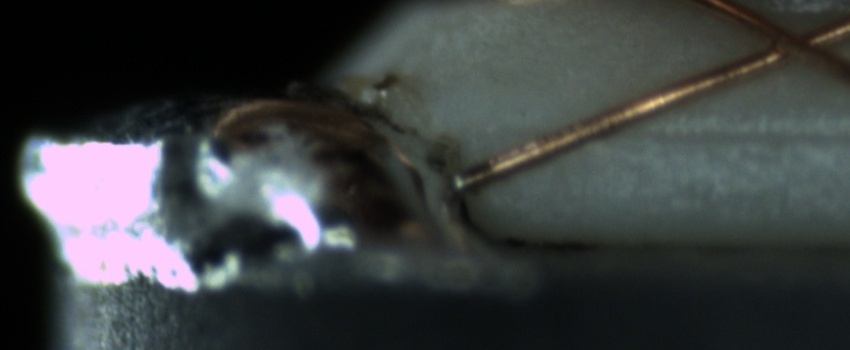CL: (743, 11, 841, 73)
DL: (575, 104, 843, 169)
